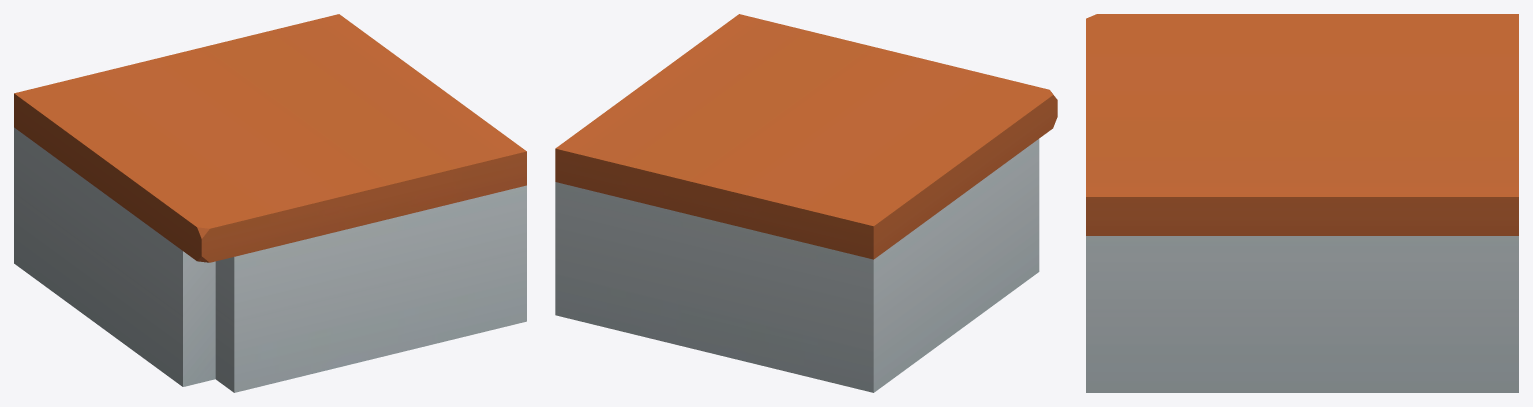
File: kitchencounter-innercorner.glb
The picture shows the model from 3 angles, left to right: view 1: azimuth 30°, elevation 25°; view 2: azimuth 150°, elevation 25°; view 3: azimuth 270°, elevation 25°; orthographic projection. The views are drawn at different scales.
Visible parts, largest first — view 1: kitchencounter_innercorner; view 2: kitchencounter_innercorner; view 3: kitchencounter_innercorner.
Part boxes in pixels (x1,y1,x2,y2): kitchencounter_innercorner: [14, 14, 526, 392]; kitchencounter_innercorner: [555, 14, 1057, 392]; kitchencounter_innercorner: [1086, 14, 1518, 392].
Bounding box in the file's own units: 2 × 1 × 2.
1 material, 1 textured.
